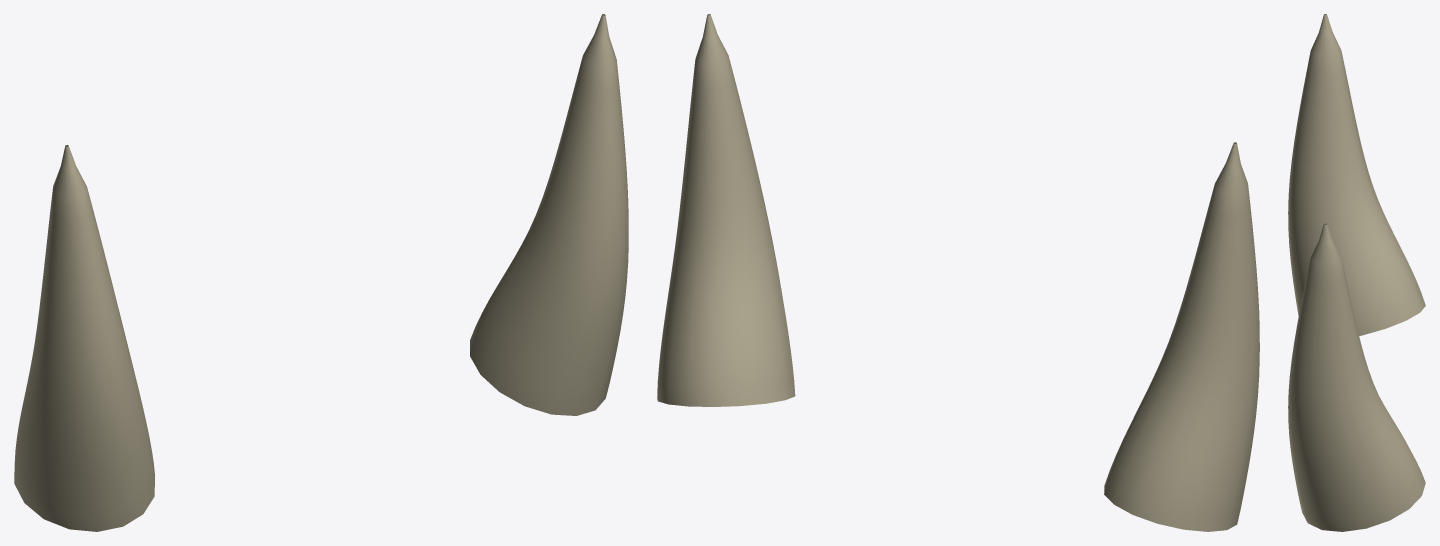
File: crocs_orque.glb
3 views of the same model, side by side, from view 1: azimuth 30°, elevation 25°; view 2: azimuth 150°, elevation 25°; view 3: azimuth 270°, elevation 25° (orthographic). The views are drawn at different scales.
Visible parts, largest first — view 1: crocs_orque; view 2: crocs_orque; view 3: crocs_orque.
Part boxes in pixels (box(x1,y1,x2,y2)): crocs_orque: box(14, 14, 628, 531); crocs_orque: box(657, 14, 1259, 531); crocs_orque: box(1288, 14, 1425, 531).
Bounding box in the file's own units: 0.0488 × 0.0307 × 0.0125.
